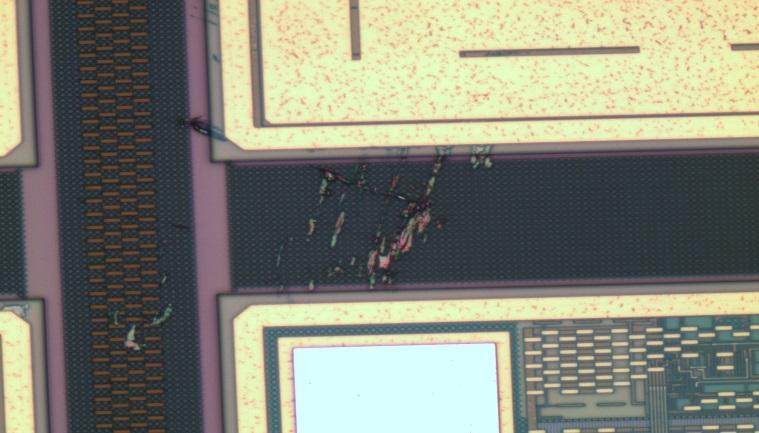SCRATCH: (92, 106, 504, 361)
